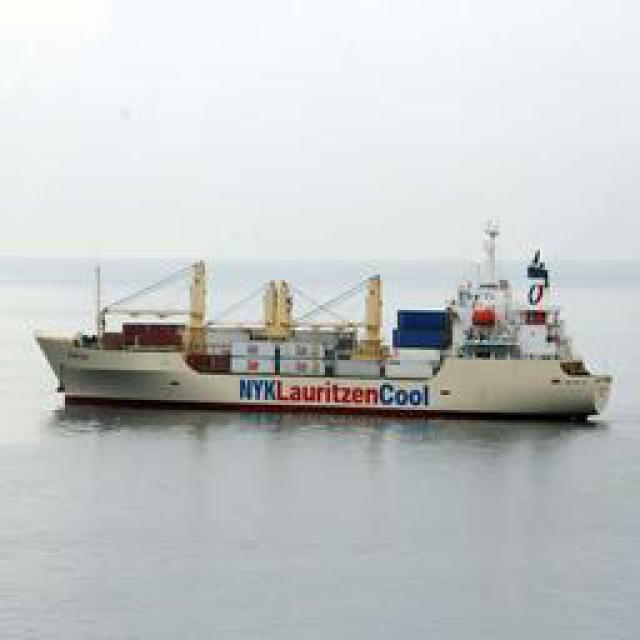Ship: (48, 244, 613, 419)
